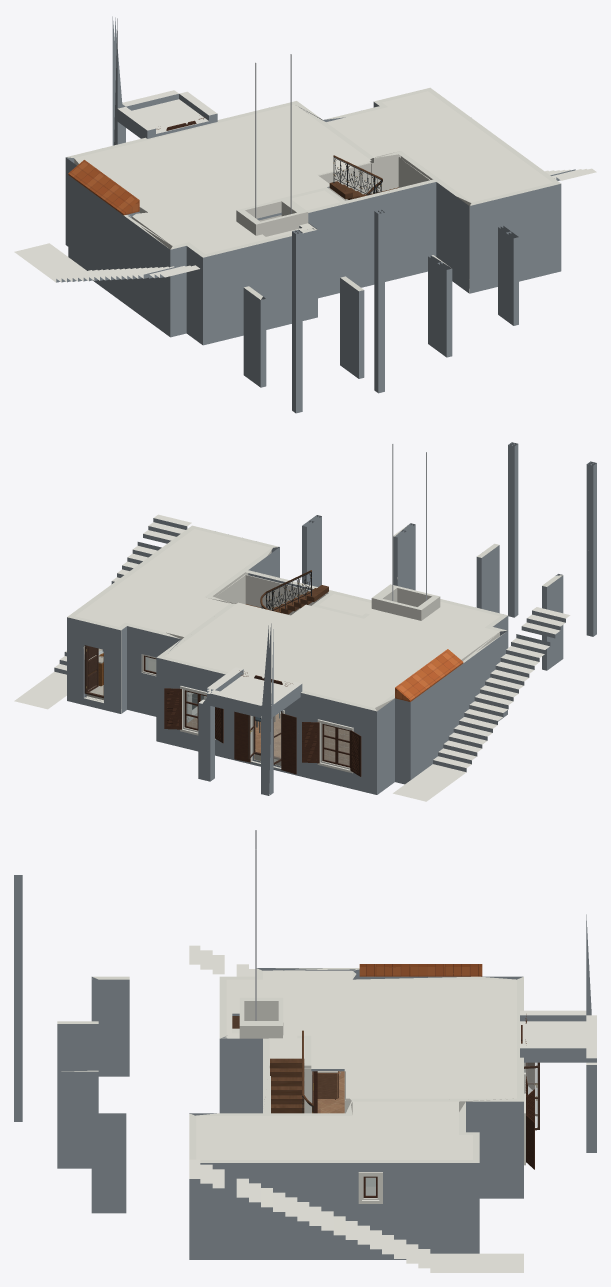
File: level-0.glb
3 renders of one model, top to bottom at view 1: azimuth 30°, elevation 25°; view 2: azimuth 150°, elevation 25°; view 3: azimuth 270°, elevation 25°, orthographic. The views are drawn at different scales.
Parts seen in each view (by area): view 1: F0 | KAT 0$DUVAR, F0 | KAT 0$TAVAN, F0 | ek dalgalar, Lift shaft continuous walls | F0, F0 | KAT 0$DUVAR KAPLAMA, F0 | ÇATII, R40 | B03 banyo bölme duvarları, B0 | Restored stair iron; view 2: F0 | KAT 0$DUVAR, F0 | KAT 0$TAVAN, F0 | ek dalgalar, F0 | PENCERE_KAPI$SHUTTER, F0 | KAT 0$DUVAR KAPLAMA, Lift shaft continuous walls | F0, F0 | ÇATII, F0 | KAT 0$ZEMİN KAPLAMA, F0 | PENCERE_KAPI$CAM, F0 | PENCERE_KAPI$ÇERÇEVE, F0 | PENCERE_KAPI$CEPHE FRAME, F0 | KAT 0$MERDİVEN (+3 smaller); view 3: F0 | KAT 0$DUVAR, F0 | KAT 0$TAVAN, F0 | ek dalgalar, Lift shaft continuous walls | F0, F0 | KAT 0$MERDİVEN, F0 | ÇATII, F0 | PENCERE_KAPI$SHUTTER, F0 | KAT 0$DUVAR KAPLAMA, F0 | KAT 0$ZEMİN KAPLAMA, F0 | PENCERE_KAPI$CEPHE FRAME.
Boxes of the visible parts, x1,y1,x2,y2 form: F0 | KAT 0$DUVAR: (65,87,561,413); F0 | KAT 0$TAVAN: (74,91,552,253); F0 | ek dalgalar: (14,16,596,282); Lift shaft continuous walls | F0: (236,197,308,236); F0 | KAT 0$DUVAR KAPLAMA: (74,154,470,278); F0 | ÇATII: (68,160,139,215); R40 | B03 banyo bölme duvarları: (317,162,370,200); B0 | Restored stair iron: (333,157,382,195); F0 | KAT 0$DUVAR: (67,442,596,794); F0 | KAT 0$TAVAN: (75,529,499,708); F0 | ek dalgalar: (14,514,570,801); F0 | PENCERE_KAPI$SHUTTER: (164,675,361,776); F0 | KAT 0$DUVAR KAPLAMA: (84,550,499,711); Lift shaft continuous walls | F0: (371,584,440,620); F0 | ÇATII: (395,649,463,701); F0 | KAT 0$ZEMİN KAPLAMA: (88,658,349,765); F0 | PENCERE_KAPI$CAM: (145,656,349,765); F0 | PENCERE_KAPI$ÇERÇEVE: (143,655,350,767); F0 | PENCERE_KAPI$CEPHE FRAME: (180,677,353,773); F0 | KAT 0$MERDİVEN: (245,585,328,614); F0 | KAT 0$DUVAR: (14,875,523,1259); F0 | KAT 0$TAVAN: (196,970,516,1159); F0 | ek dalgalar: (189,914,596,1272); Lift shaft continuous walls | F0: (239,997,283,1099); F0 | KAT 0$MERDİVEN: (270,1058,304,1113); F0 | ÇATII: (359,964,482,976); F0 | PENCERE_KAPI$SHUTTER: (525,1020,534,1169); F0 | KAT 0$DUVAR KAPLAMA: (269,1068,472,1186); F0 | KAT 0$ZEMİN KAPLAMA: (313,1071,375,1195); F0 | PENCERE_KAPI$CEPHE FRAME: (358,1025,525,1203).
Bounding box in the file's own units: 15.98 × 9.07 × 16.87.
54 materials, 10 textured.
